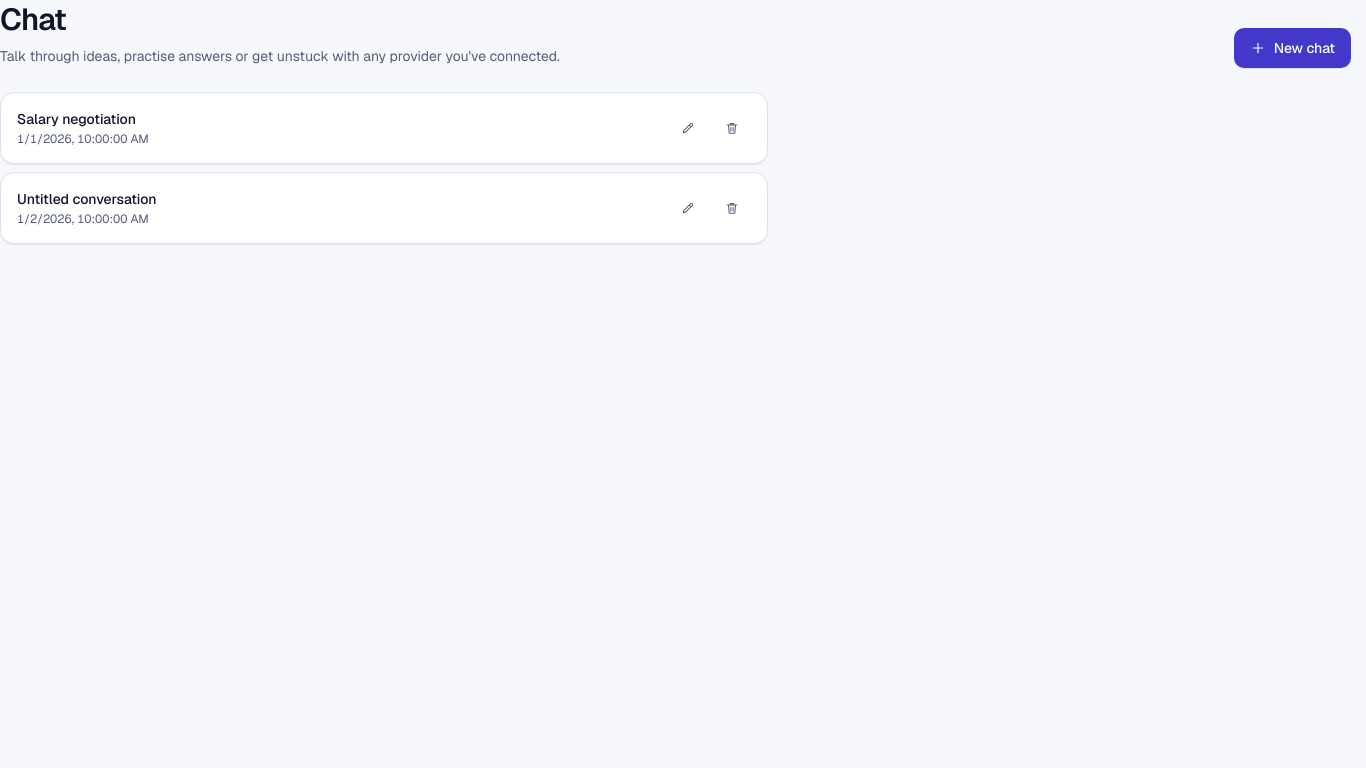
Test: ChatListView › keeps the conversation and explains when the database refuses
What coordinates should you click on to do the following:
click the button named "Delete conversation Salary negotiation"
I would click on:
 (732, 128)
Its box is [713,112,751,144].
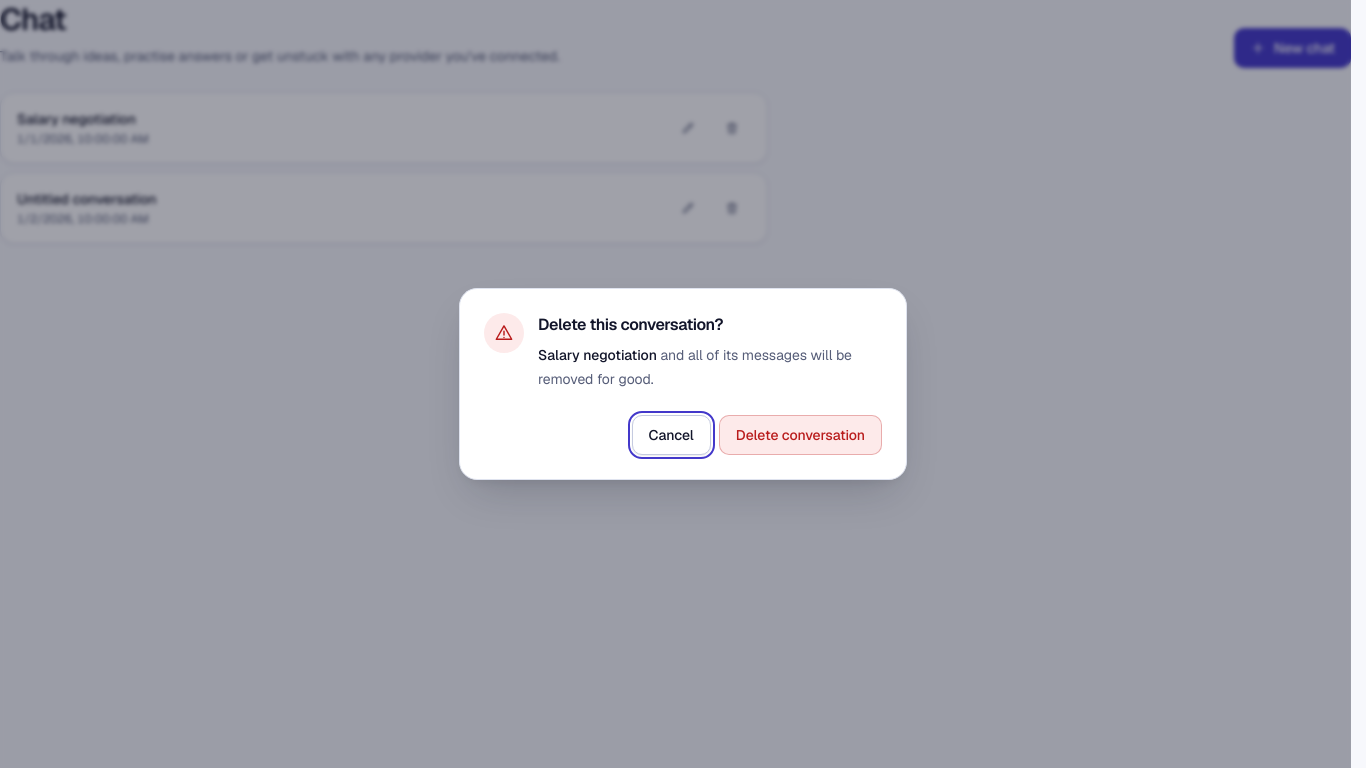
What coordinates should you click on to do the following:
click the button "Delete conversation"
I would click on:
 (800, 435)
Its box is [719,415,882,455].
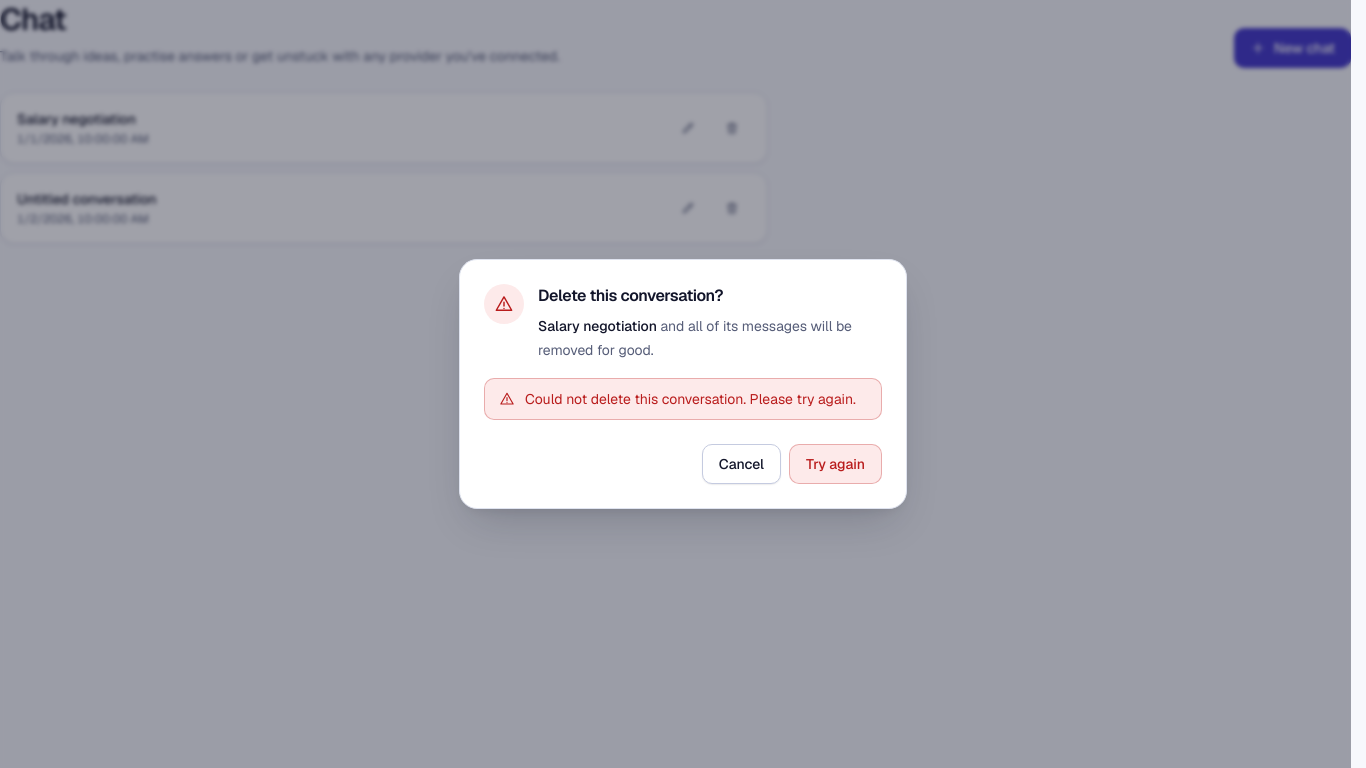
expect the link "Salary negotiation" is shown: met, box [17,110,136,128]
expect the message shows "Could not delete this conversation": met, box [525,390,856,408]
